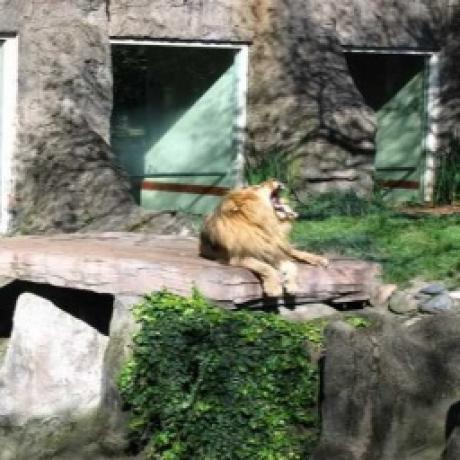Lion: (200, 176, 326, 297)
